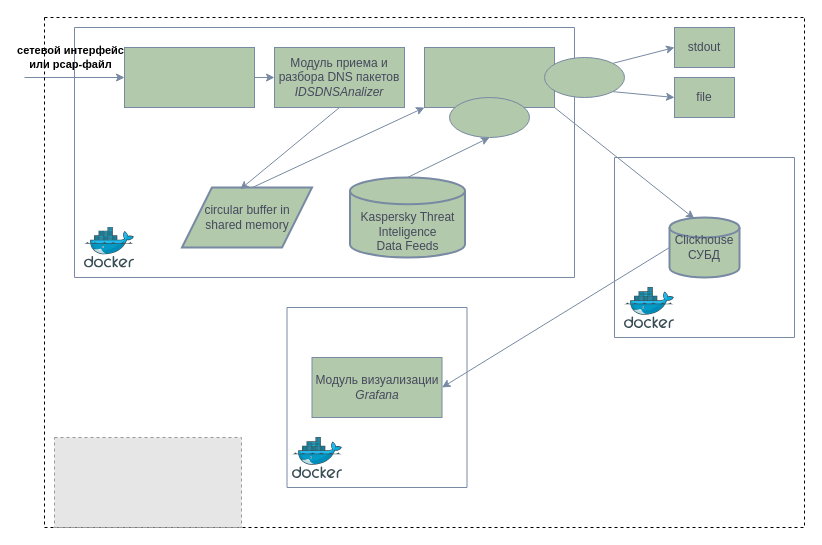
The diagram is 822 pixels wide and 545 high, and some of its shapes have lost their labels. Grey dashed boxes stand in for pictures. The shapes that lost their labels are listed below. From the top down, each one's centre as x and y in pixels, then its label:
At pixel 189 77: "Модуль отправки DNS пакетов IDSPullerLinux".
At pixel 489 77: "Модуль анализа dns-db-search".
At pixel 584 77: "spdlog".
At pixel 489 117: "in memory storage".
